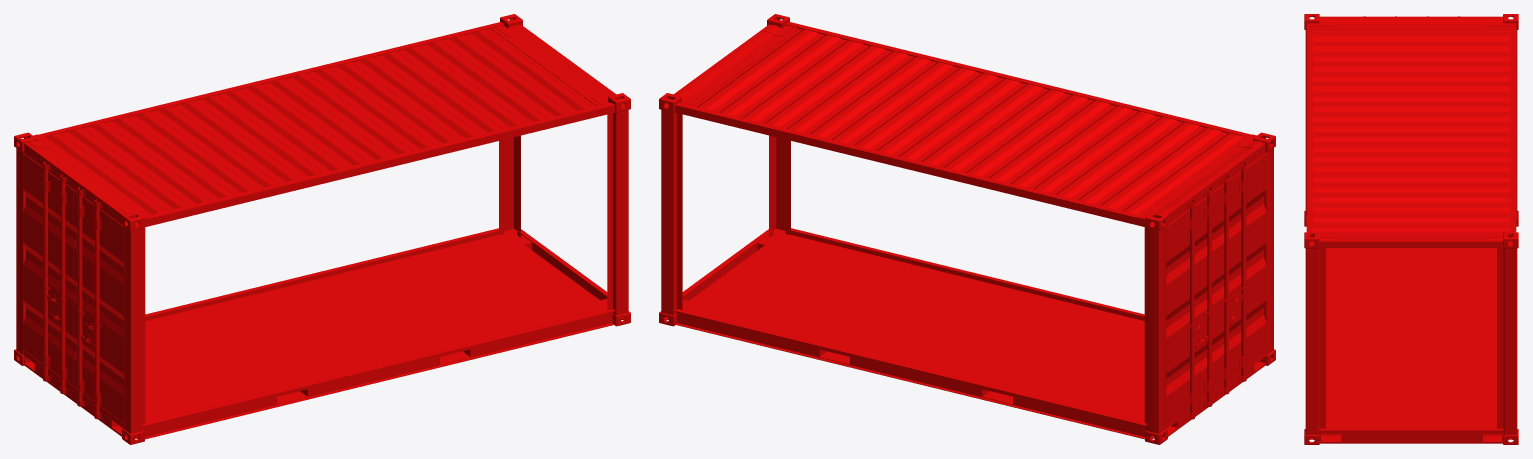
Rendered from container-shell.glb.
3 renders of one model, left to right at view 1: azimuth 30°, elevation 25°; view 2: azimuth 150°, elevation 25°; view 3: azimuth 270°, elevation 25°, orthographic. The views are drawn at different scales.
Bounding box in the file's own units: 6.09 × 2.59 × 2.44.
